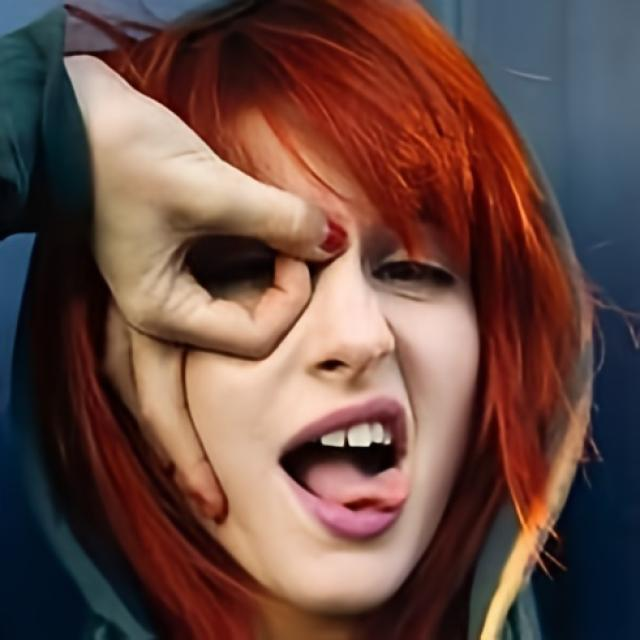disgust: (117, 89, 484, 616)
